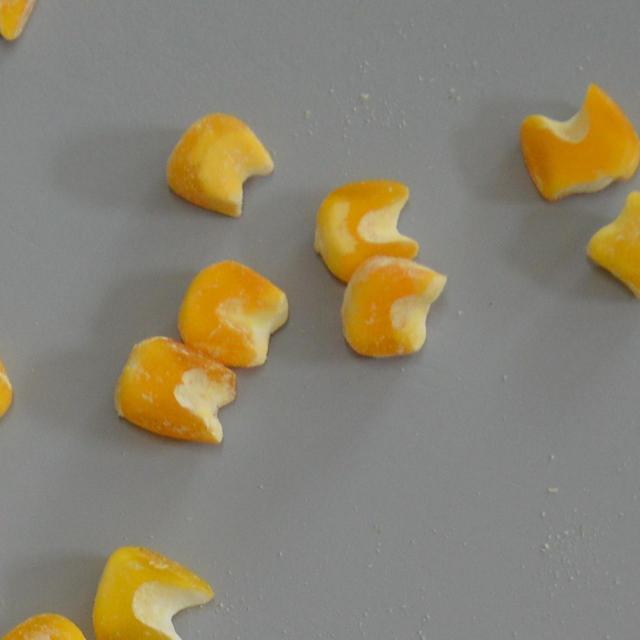no_canjicado: (312, 179, 418, 284)
pelicula: (518, 83, 640, 201), (114, 336, 236, 445), (174, 260, 290, 370), (89, 546, 214, 640), (164, 113, 274, 218), (339, 254, 447, 358), (584, 191, 640, 303), (0, 613, 99, 640), (0, 328, 13, 432)
